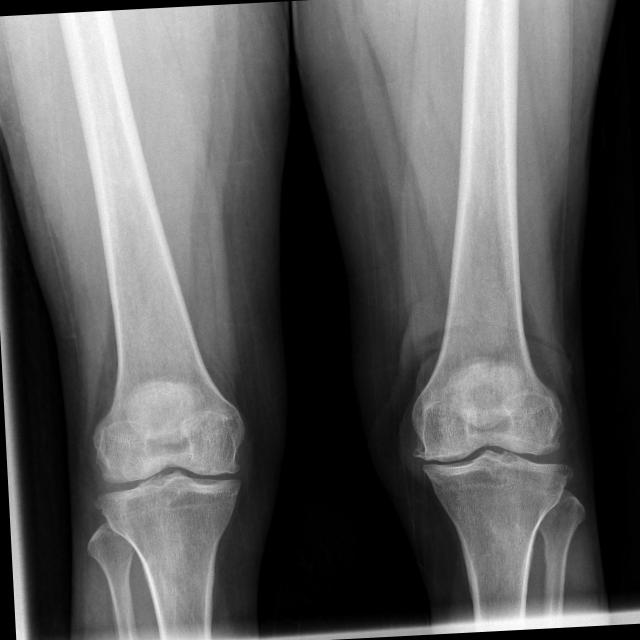Knee: (408, 382, 571, 518), (87, 406, 251, 541)
